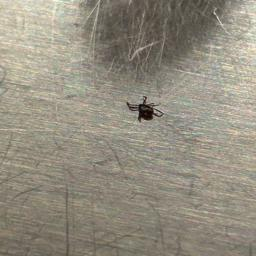Ixodes scapularis: (126, 98, 163, 121)
